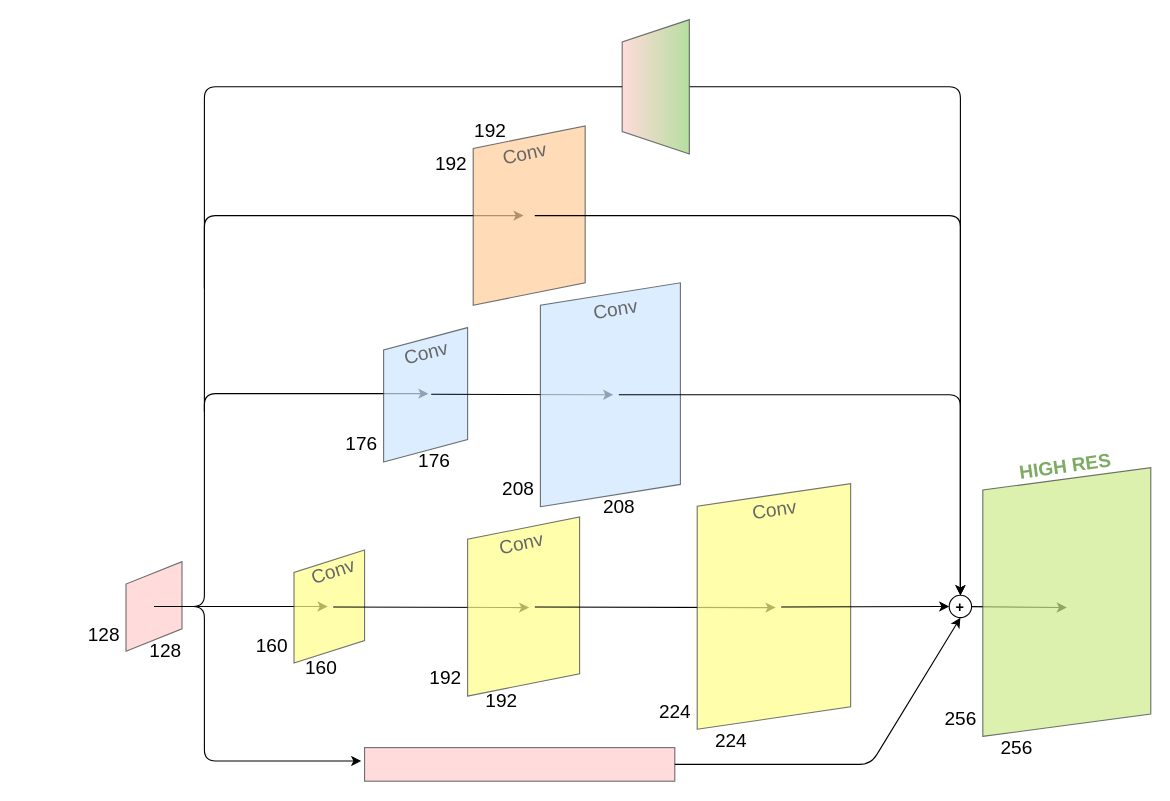
Image size: 1170x801. Some labels were removed from this diagram. The box of each missing label's shape, as (x1, y1, x2, y2) in pixels:
Eventual additional stacks...: (363, 746, 675, 781)
LOW RES: (125, 561, 182, 651)
UPS x2: (621, 18, 689, 154)
